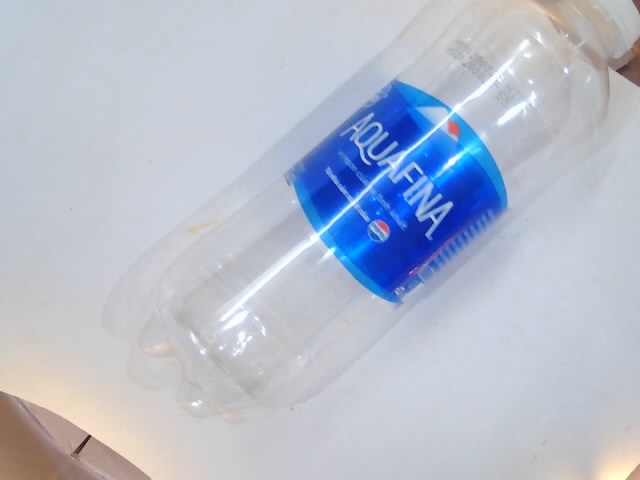plastic: (122, 0, 616, 420)
